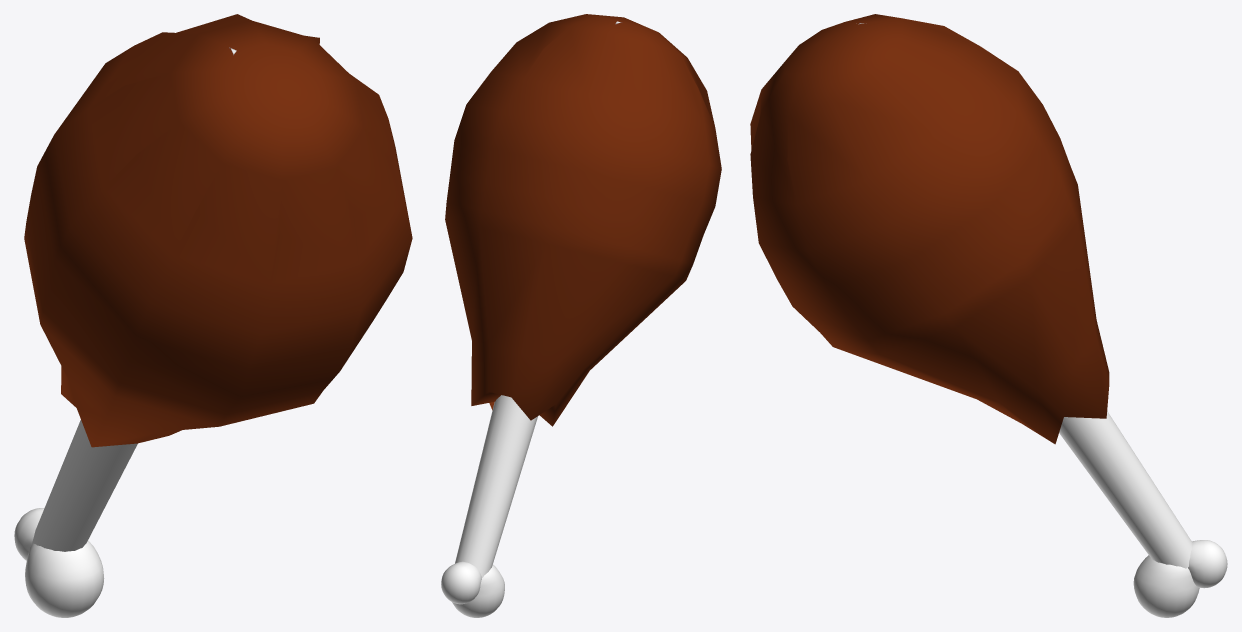
File: Food.fbx
3 renders of one model, left to right at view 1: azimuth 30°, elevation 25°; view 2: azimuth 150°, elevation 25°; view 3: azimuth 270°, elevation 25°, orthographic. The views are drawn at different scales.
Parts seen in each view (by area): view 1: polySurface1; view 2: polySurface1; view 3: polySurface1.
Part boxes in pixels (bbox=[...]): polySurface1: bbox=[14, 14, 412, 617]; polySurface1: bbox=[441, 14, 721, 617]; polySurface1: bbox=[750, 14, 1227, 617].
Size of the model in its own units: 1.08 by 2.18 by 1.61.
